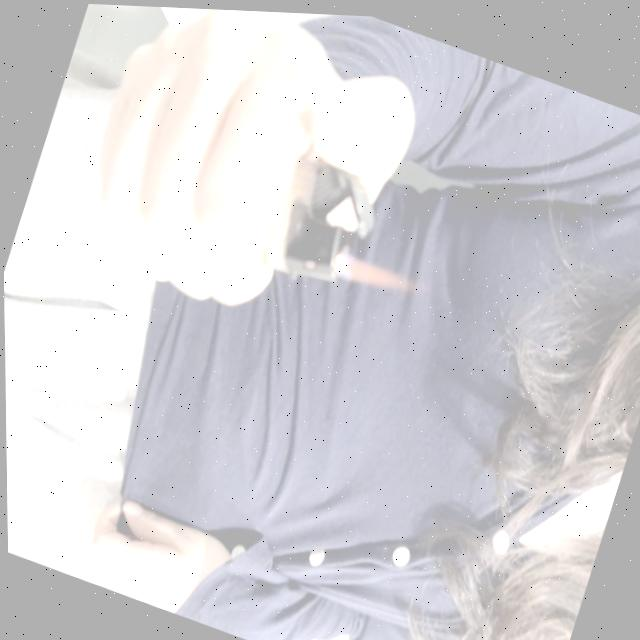Fire: (334, 244, 420, 305)
